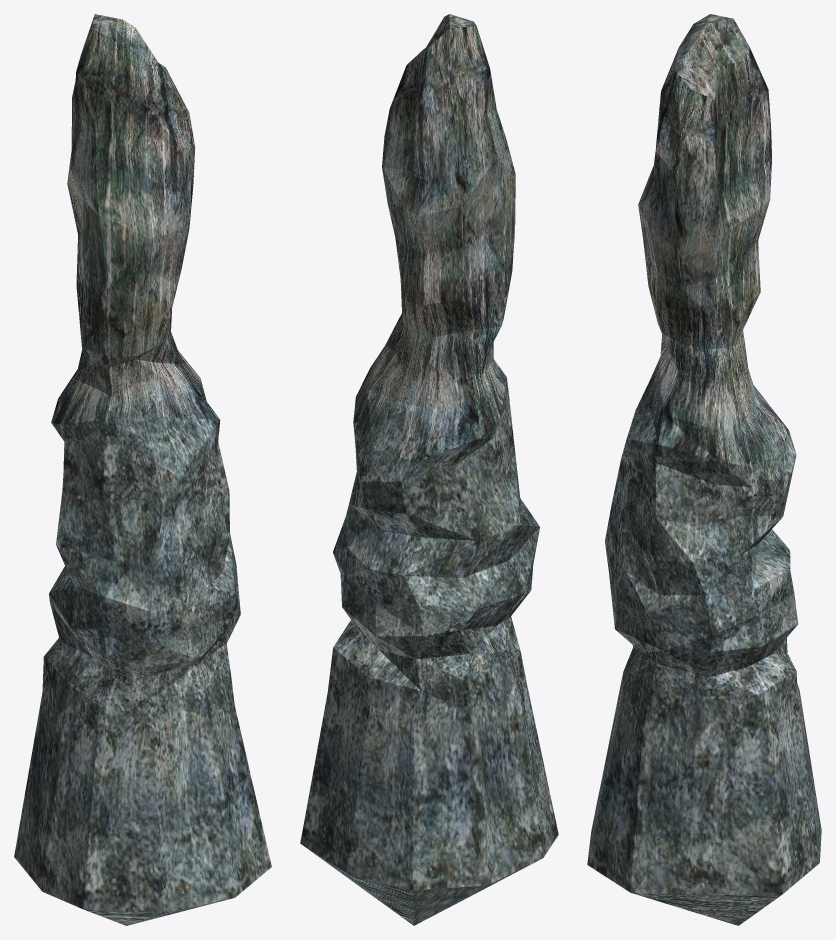
The model's file is rock_dath_desertspire_a1_l0.fbx.
The picture shows the model from 3 angles, left to right: view 1: azimuth 30°, elevation 25°; view 2: azimuth 150°, elevation 25°; view 3: azimuth 270°, elevation 25°; orthographic projection. The views are drawn at different scales.
Parts seen in each view (by area): view 1: mesh_node; view 2: mesh_node; view 3: mesh_node.
Part boxes in pixels (<box>): mesh_node: <box>14,14,271,925</box>; mesh_node: <box>300,14,558,925</box>; mesh_node: <box>587,14,821,925</box>.
Bounding box in the file's own units: 17.25 × 74.48 × 17.74.
